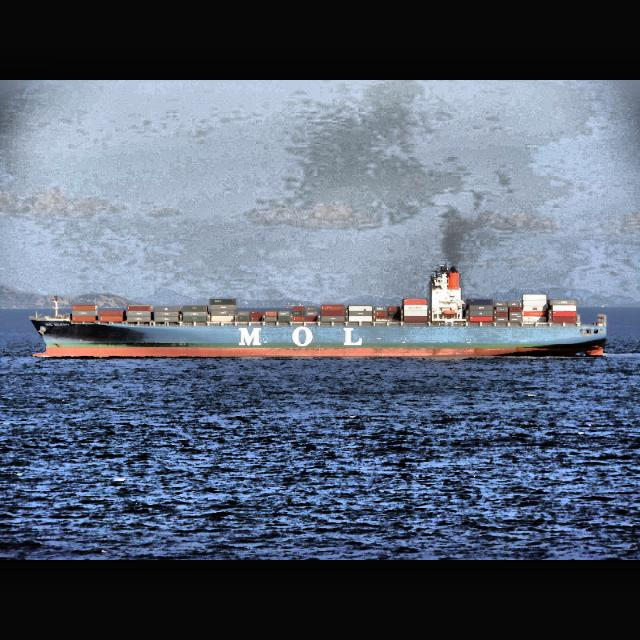container: (28, 260, 610, 358)
